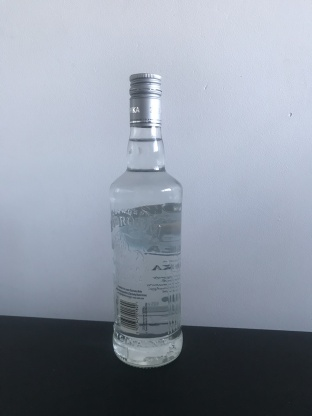nakretka: (128, 71, 163, 128)
